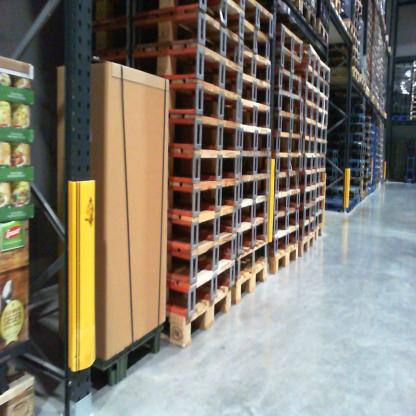pallet: (90, 43, 243, 103), (79, 13, 240, 67), (88, 2, 248, 36), (165, 288, 237, 349), (167, 230, 238, 289), (160, 259, 238, 312), (166, 81, 239, 129), (163, 176, 240, 221), (170, 113, 238, 162), (171, 202, 239, 248), (167, 148, 242, 187), (235, 123, 274, 179), (238, 167, 272, 225), (231, 260, 271, 308), (3, 367, 40, 413), (233, 209, 270, 255), (268, 59, 307, 102), (272, 14, 302, 63), (240, 59, 271, 106), (232, 241, 268, 280), (235, 90, 269, 131), (242, 0, 276, 36), (239, 42, 272, 79), (243, 17, 272, 57), (284, 2, 317, 36), (275, 52, 308, 82), (266, 249, 298, 279), (268, 169, 302, 197), (273, 210, 300, 243), (271, 91, 301, 118), (303, 41, 324, 79), (273, 225, 298, 256), (323, 193, 356, 216), (279, 104, 305, 133), (297, 153, 313, 193), (269, 154, 302, 173), (325, 64, 359, 82), (274, 195, 300, 218), (326, 43, 359, 61), (304, 59, 320, 92), (299, 150, 316, 181), (277, 134, 303, 154), (301, 208, 316, 241), (304, 83, 320, 113), (329, 56, 361, 71), (300, 197, 318, 219), (315, 107, 332, 128), (320, 21, 333, 47), (297, 189, 318, 205), (306, 121, 320, 143), (304, 108, 321, 126), (316, 78, 331, 98), (298, 237, 315, 254), (315, 90, 332, 107), (307, 171, 327, 185), (312, 185, 327, 203), (308, 157, 327, 171), (322, 61, 333, 84), (313, 140, 327, 157), (324, 189, 362, 195), (303, 142, 315, 158), (355, 77, 367, 93), (389, 115, 408, 125), (311, 226, 323, 241), (340, 18, 352, 33), (312, 214, 323, 230), (324, 166, 341, 176), (314, 131, 332, 140), (312, 203, 324, 215), (352, 2, 364, 13), (329, 1, 342, 11), (351, 9, 361, 22), (325, 158, 341, 166), (351, 198, 362, 209), (353, 35, 362, 48), (353, 22, 362, 33), (408, 115, 416, 122), (328, 152, 338, 157), (409, 111, 416, 116), (411, 96, 416, 102), (411, 107, 416, 112), (412, 102, 416, 107)
